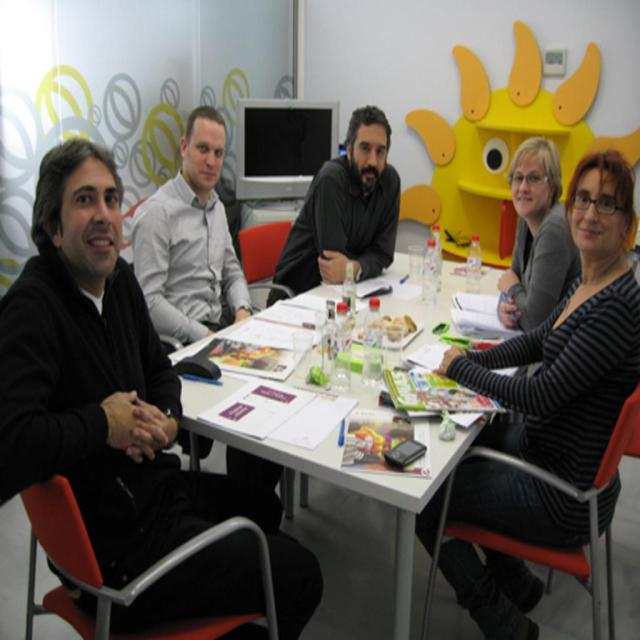Face: (39, 161, 130, 277), (568, 163, 626, 262), (347, 110, 403, 184), (181, 111, 229, 191), (507, 150, 558, 221)
